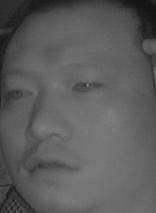eye: (69, 73, 106, 97), (4, 82, 37, 105)
mouth: (23, 150, 78, 182)
